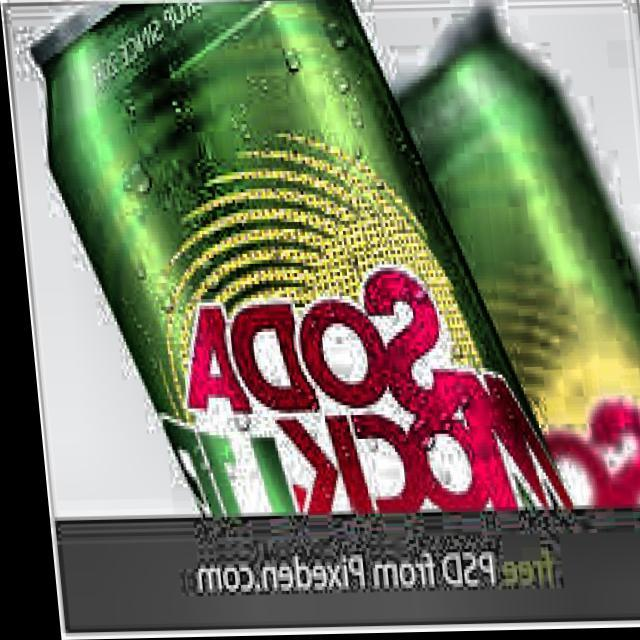can: (64, 6, 472, 516)
